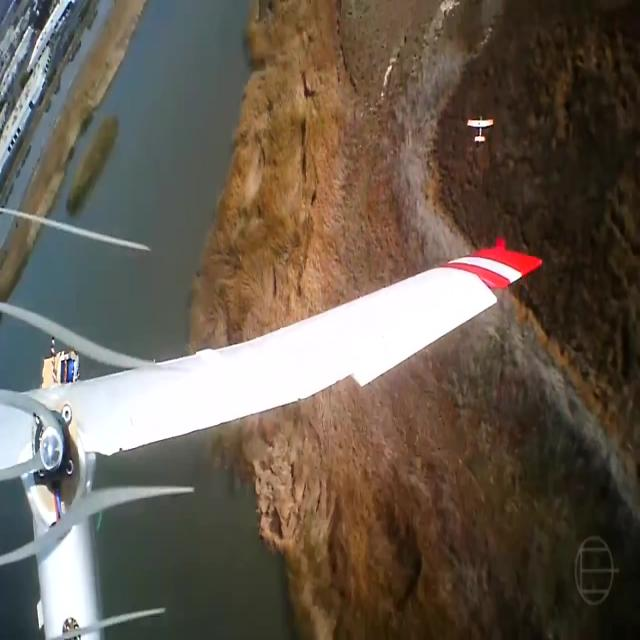iha: (466, 114, 493, 143)
